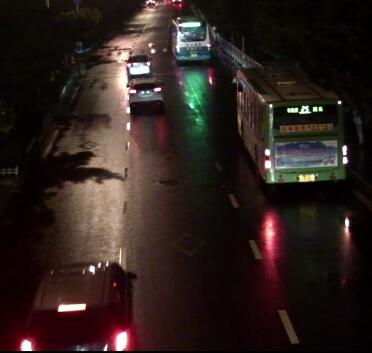bus: (232, 61, 347, 184), (169, 16, 213, 57)
car: (13, 263, 140, 350), (124, 77, 164, 112), (123, 52, 152, 74), (145, 2, 160, 10)
